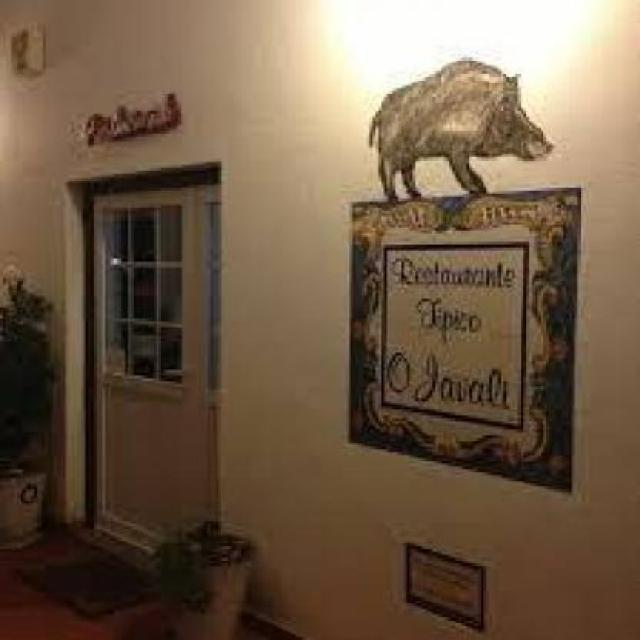wildboar: (365, 55, 557, 211)
